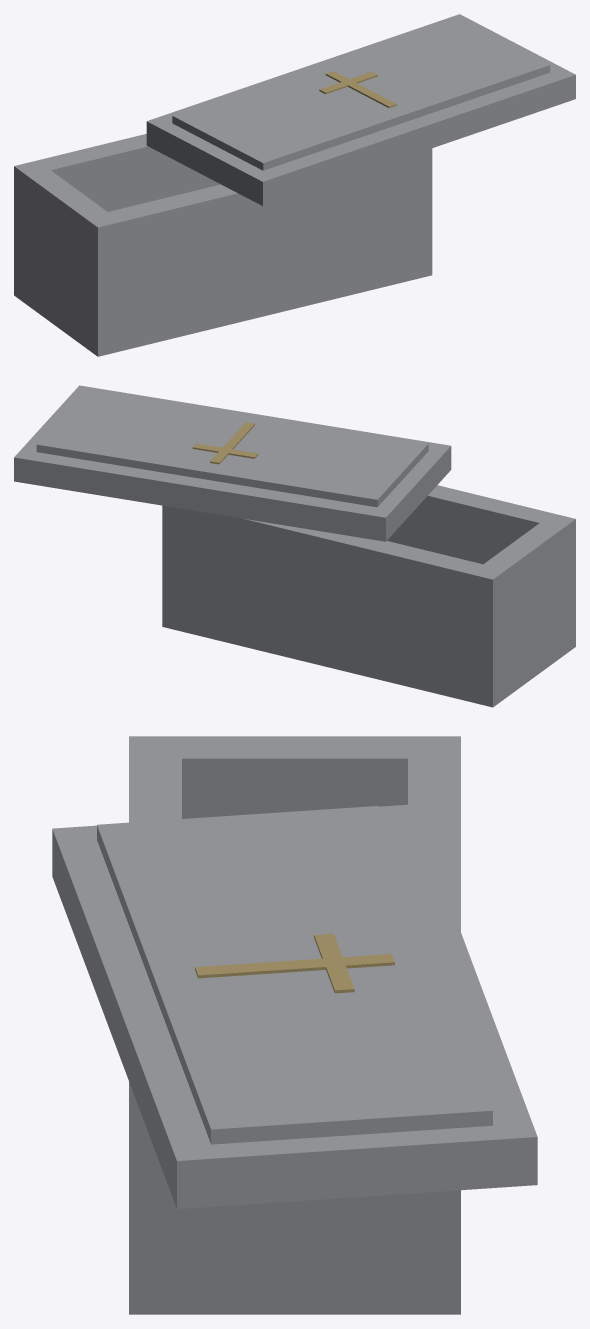
Rendered from Sarcophagus.fbx.
3 renders of one model, top to bottom at view 1: azimuth 30°, elevation 25°; view 2: azimuth 150°, elevation 25°; view 3: azimuth 270°, elevation 25°, orthographic. The views are drawn at different scales.
Visible parts, largest first — view 1: Sarcophagus; view 2: Sarcophagus; view 3: Sarcophagus.
Boxes of the visible parts, box(x1,y1,x2,y2) form: Sarcophagus: box(14, 14, 575, 356); Sarcophagus: box(14, 385, 575, 707); Sarcophagus: box(52, 736, 537, 1314).
Size of the model in its own units: 3.37 by 1.07 by 1.46.
